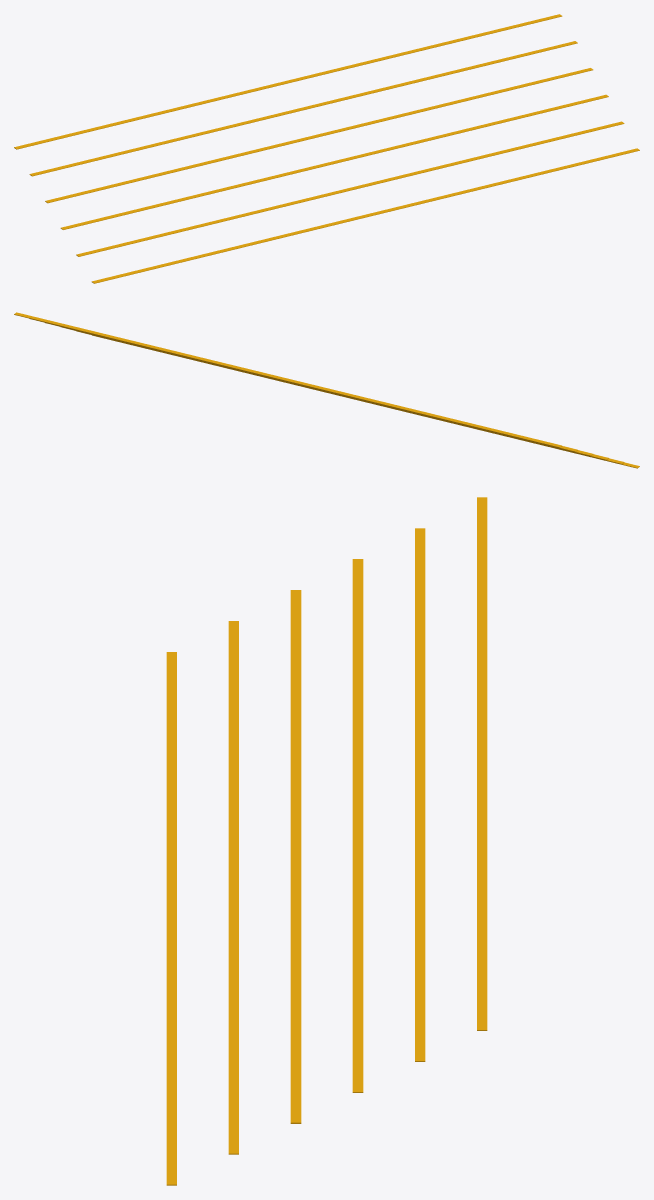
File: gteki_ik_stair_n6_r180_t327_w6658_nosing.glb
3 views of the same model, one above another, from view 1: azimuth 30°, elevation 25°; view 2: azimuth 150°, elevation 25°; view 3: azimuth 270°, elevation 25° (orthographic). The views are drawn at different scales.
Visible parts, largest first — view 1: VIS_body; view 2: VIS_body; view 3: VIS_body.
Boxes of the visible parts, bbox=[...] form: VIS_body: bbox=[14, 14, 639, 283]; VIS_body: bbox=[14, 312, 639, 468]; VIS_body: bbox=[166, 497, 487, 1185].
Bounding box in the file's own units: 6.64 × 0.906 × 1.69.
Materials: 1 (1 with a texture image).
